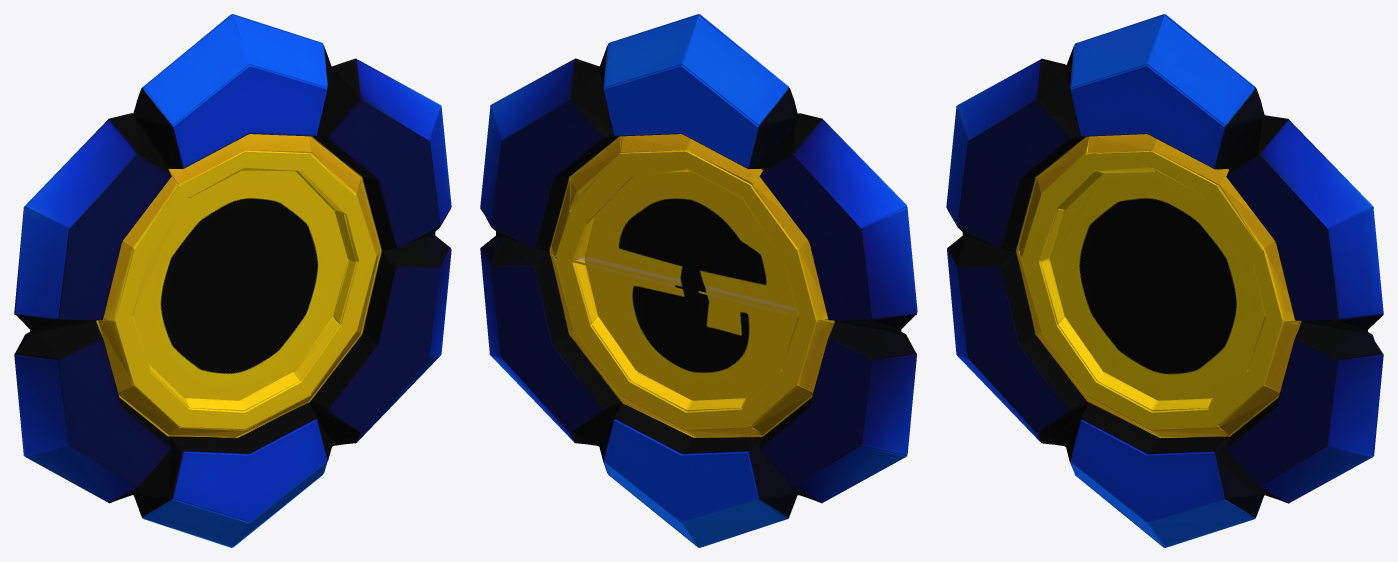
Rendered from Meshy_AI_hexagonal_circular_de_0703115124_texture.glb.
3 renders of one model, left to right at view 1: azimuth 30°, elevation 25°; view 2: azimuth 150°, elevation 25°; view 3: azimuth 330°, elevation 25°, orthographic.
Bounding box in the file's own units: 1.63 × 1.91 × 0.2309.
Materials: 1 (1 with a texture image).
